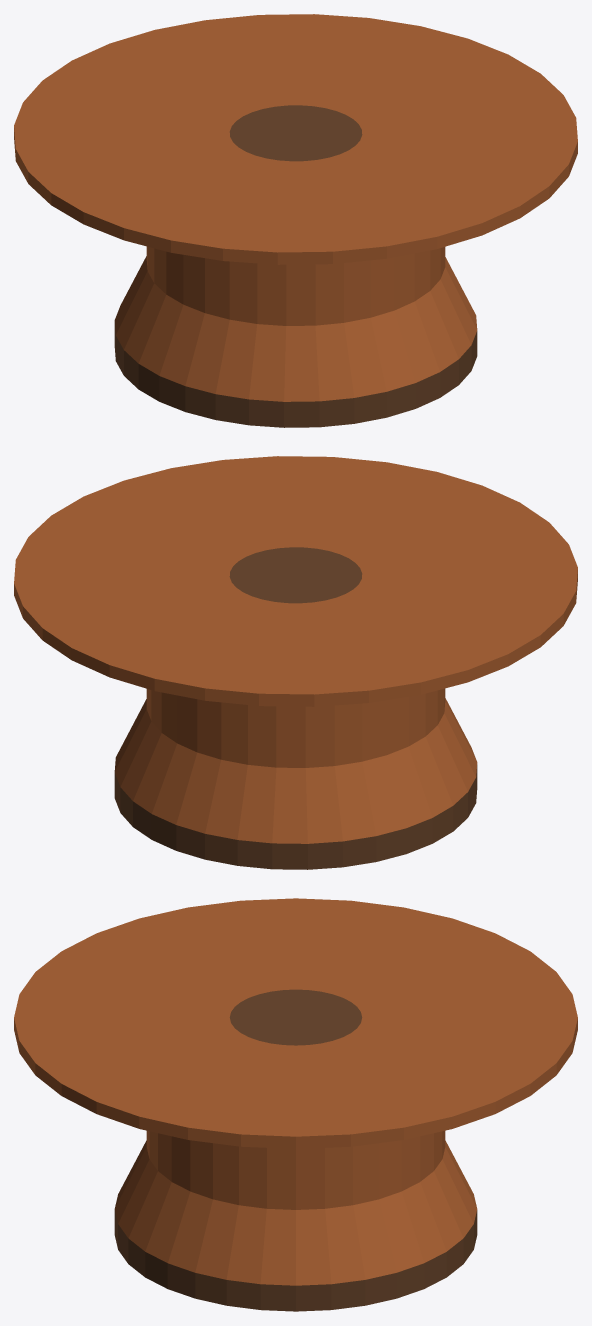
The model's file is round_table.glb.
The picture shows the model from 3 angles, top to bottom: view 1: azimuth 30°, elevation 25°; view 2: azimuth 150°, elevation 25°; view 3: azimuth 270°, elevation 25°; orthographic projection.
Visible parts, largest first — view 1: round_table-col; view 2: round_table-col; view 3: round_table-col.
Part boxes in pixels (x1,y1,x2,y2): round_table-col: (14,14,577,427); round_table-col: (14,456,577,869); round_table-col: (14,898,577,1311).
Size of the model in its own units: 1.51 by 0.6403 by 1.51.
